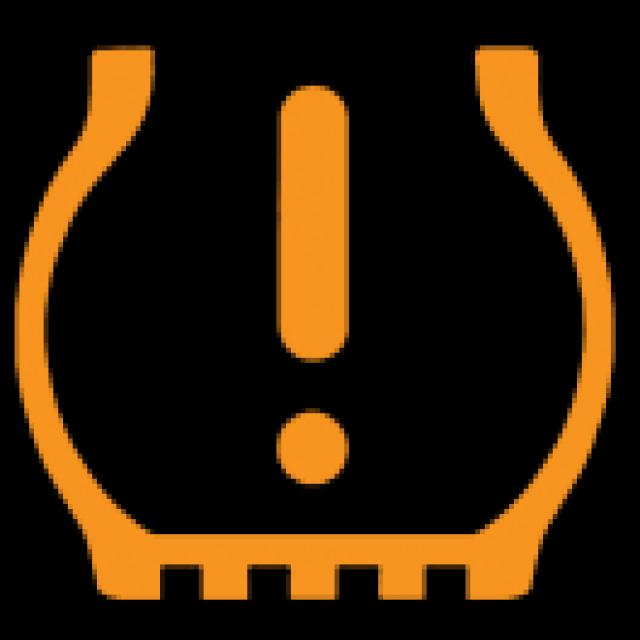kontrolka: (7, 20, 635, 609)
